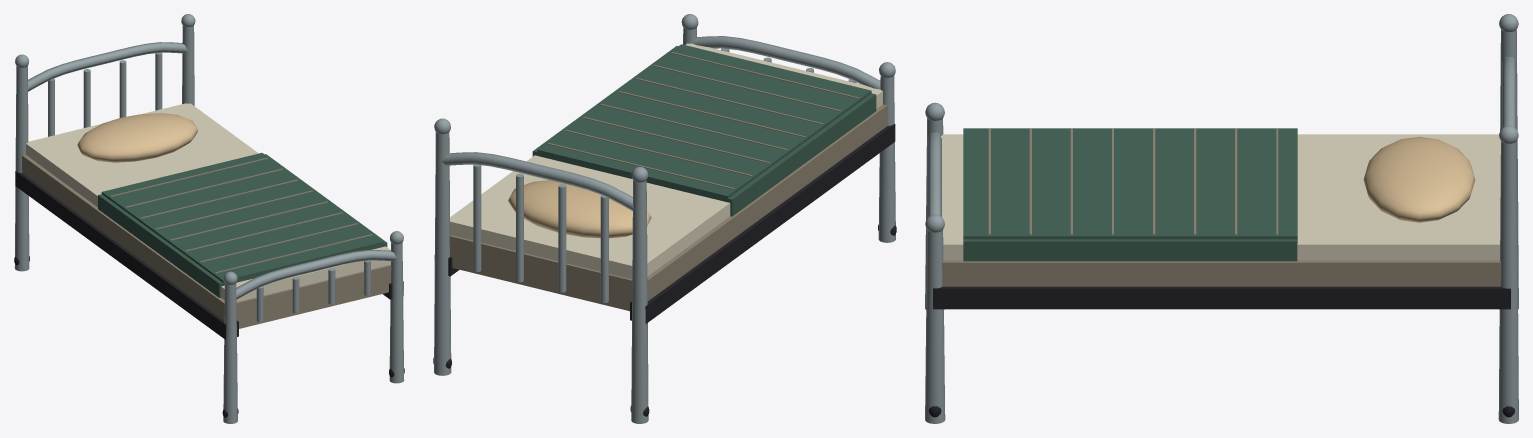
Rendered from mia-bed.glb.
3 renders of one model, left to right at view 1: azimuth 30°, elevation 25°; view 2: azimuth 150°, elevation 25°; view 3: azimuth 270°, elevation 25°, orthographic. The views are drawn at different scales.
Parts seen in each view (by area): view 1: Body_sage, Body_steel, Body_mattress-seam, Body_mattress, Body_ivory, Body_iron; view 2: Body_sage, Body_steel, Body_mattress-seam, Body_mattress, Body_iron, Body_ivory; view 3: Body_sage, Body_mattress, Body_mattress-seam, Body_iron, Body_steel, Body_ivory.
Part boxes in pixels (x1,y1,x2,y2): Body_sage: [98, 153, 387, 297]; Body_steel: [14, 14, 404, 423]; Body_mattress-seam: [22, 155, 391, 328]; Body_mattress: [26, 103, 390, 301]; Body_ivory: [77, 113, 197, 162]; Body_iron: [14, 171, 404, 417]; Body_sage: [532, 44, 876, 216]; Body_steel: [434, 14, 895, 423]; Body_mattress-seam: [449, 52, 887, 311]; Body_mattress: [450, 43, 882, 279]; Body_iron: [433, 123, 896, 416]; Body_ivory: [508, 180, 651, 238]; Body_sage: [963, 128, 1297, 261]; Body_mattress: [941, 134, 1500, 260]; Body_mattress-seam: [942, 128, 1501, 286]; Body_iron: [929, 286, 1514, 417]; Body_steel: [925, 14, 1518, 423]; Body_ivory: [1363, 136, 1475, 222].
Bounding box in the file's own units: 0.91 × 1.02 × 1.88.
